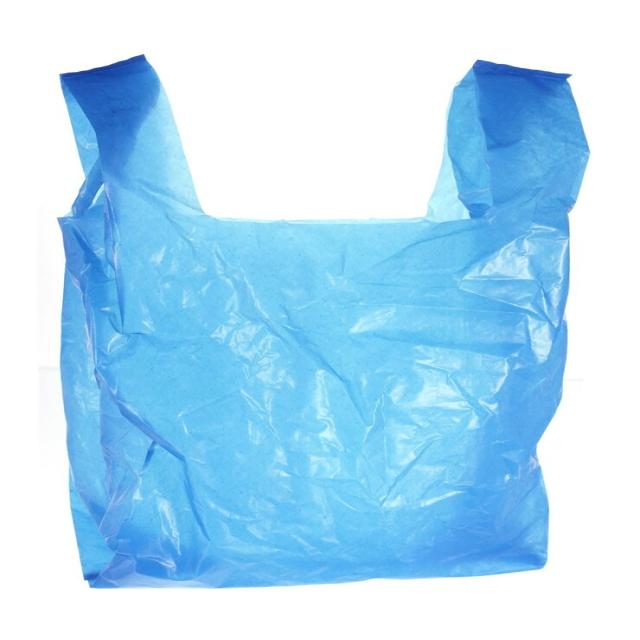plastic_bag: (28, 30, 608, 586)
